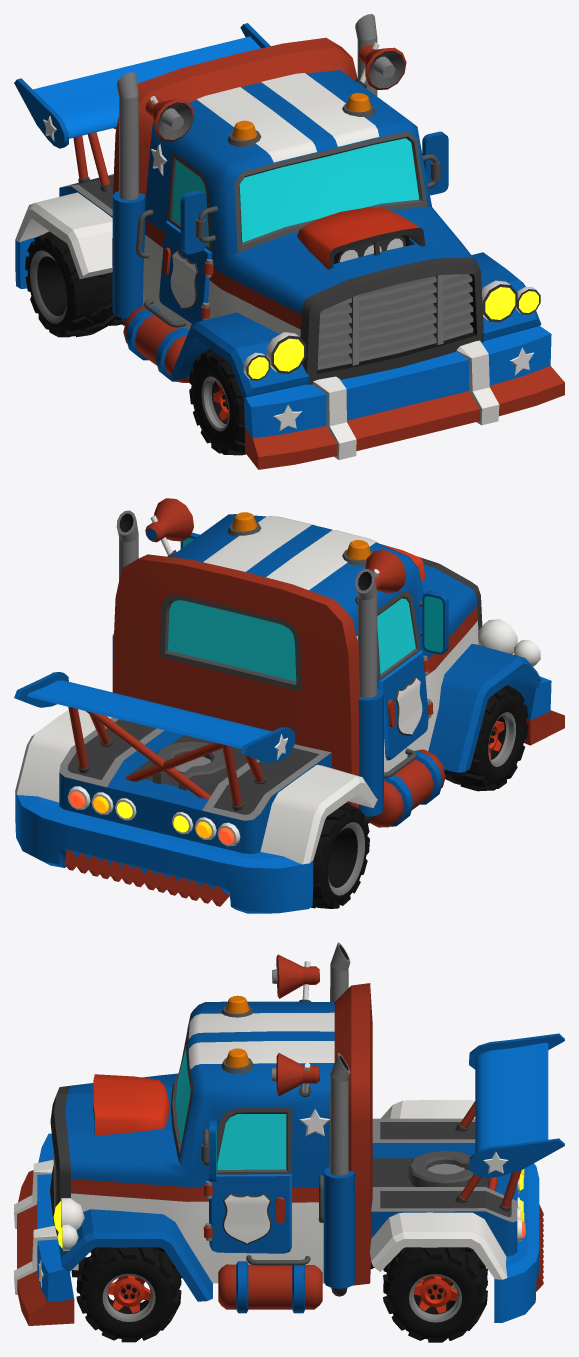
The model's file is VEH21_C.fbx.
3 views of the same model, one above another, from view 1: azimuth 30°, elevation 25°; view 2: azimuth 150°, elevation 25°; view 3: azimuth 270°, elevation 25° (orthographic). The views are drawn at different scales.
Visible parts, largest first — view 1: VEH21_C, VEH21C_Wheel_BR, VEH21C_Wheel_FR; view 2: VEH21_C, VEH21C_Wheel_FR, VEH21C_Wheel_BR; view 3: VEH21_C, VEH21C_Wheel_BL, VEH21C_Wheel_FL.
Part boxes in pixels (x1,y1,x2,y2): VEH21_C: [14, 14, 564, 469]; VEH21C_Wheel_BR: [25, 231, 125, 337]; VEH21C_Wheel_FR: [189, 349, 246, 455]; VEH21_C: [14, 498, 564, 913]; VEH21C_Wheel_FR: [444, 685, 528, 791]; VEH21C_Wheel_BR: [311, 803, 369, 908]; VEH21_C: [14, 942, 564, 1325]; VEH21C_Wheel_BL: [383, 1247, 487, 1342]; VEH21C_Wheel_FL: [76, 1247, 181, 1342].
Size of the model in its own units: 284 by 263 by 466.
Materials: 1 (1 with a texture image).
